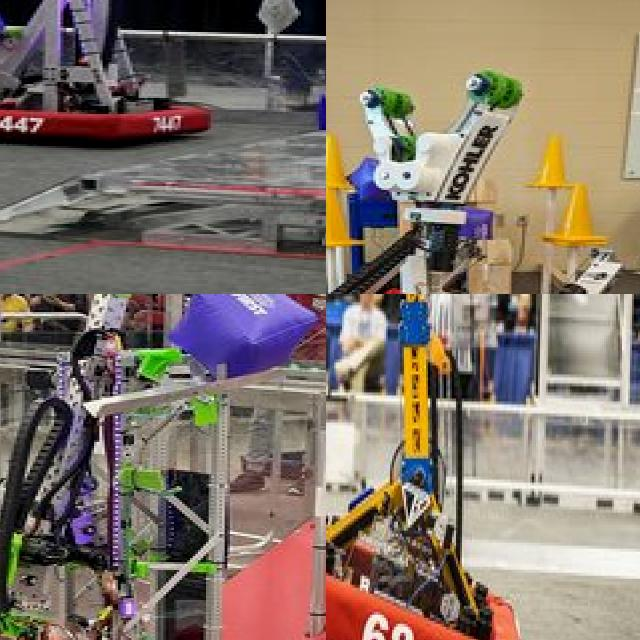FRC-Robots: (0, 294, 326, 640), (326, 294, 559, 640), (326, 46, 640, 294), (0, 0, 240, 159)
